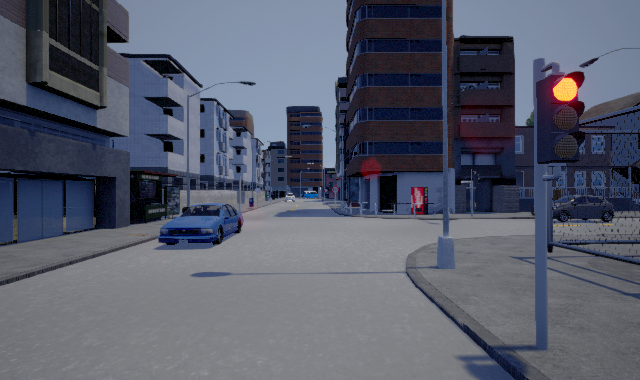traffic_light: (536, 70, 587, 164)
traffic_sign: (332, 186, 339, 193)
vehicle: (157, 203, 244, 245), (553, 195, 614, 222)
